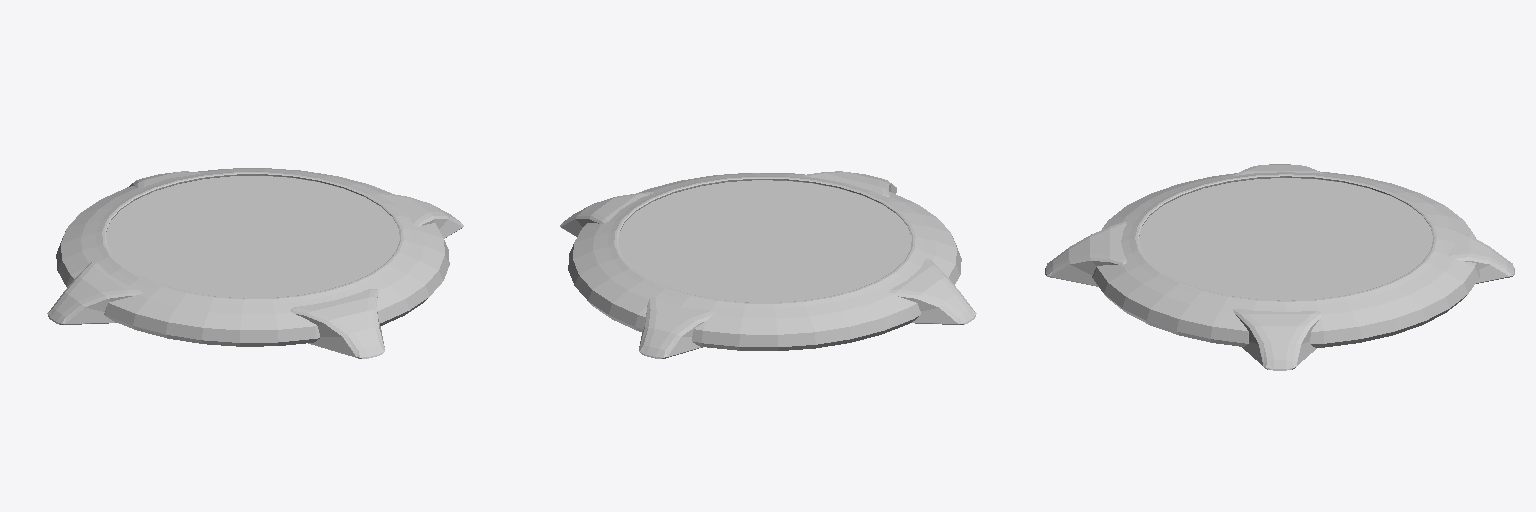
The model's file is Pad.obj.
The picture shows the model from 3 angles: view 1: azimuth 30°, elevation 25°; view 2: azimuth 150°, elevation 25°; view 3: azimuth 270°, elevation 25°; orthographic projection.
Parts seen in each view (by area): view 1: Pad; view 2: Pad; view 3: Pad.
Part boxes in pixels (x1,y1,x2,y2): Pad: (47, 168, 463, 358); Pad: (560, 171, 976, 358); Pad: (1045, 164, 1514, 370).
Bounding box in the file's own units: 3.31 × 0.2789 × 3.31.